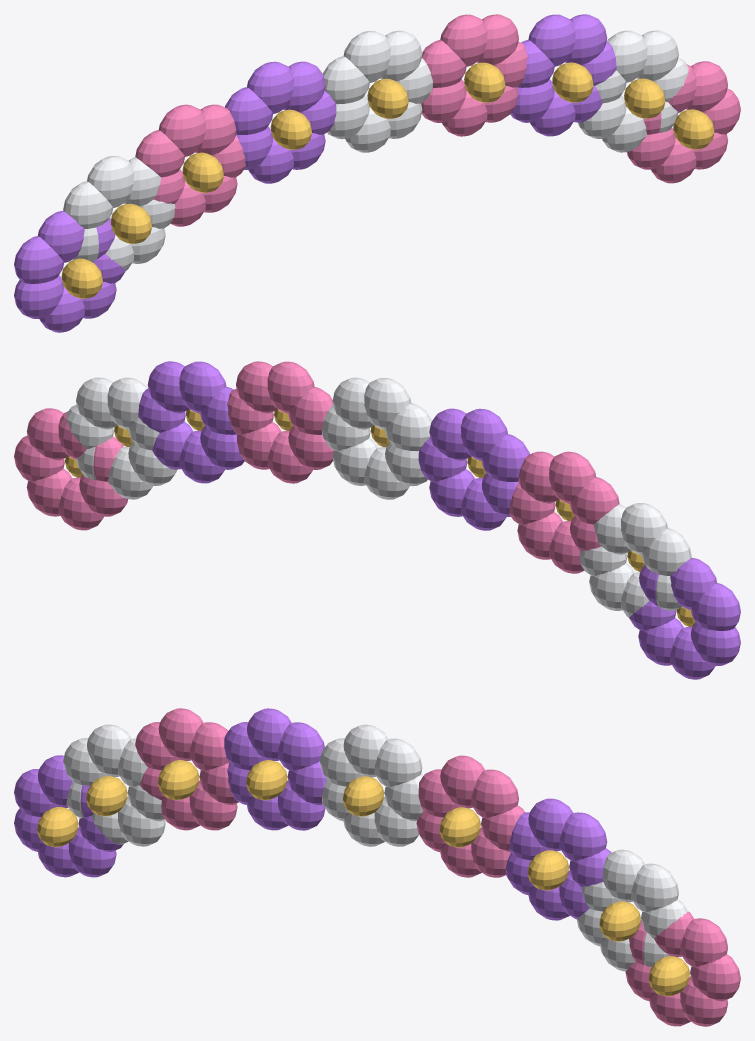
The model's file is flower-crown.glb.
The picture shows the model from 3 angles, top to bottom: view 1: azimuth 30°, elevation 25°; view 2: azimuth 150°, elevation 25°; view 3: azimuth 330°, elevation 25°; orthographic projection.
Parts seen in each view (by area): view 1: petal (×60), flower center (×9); view 2: petal (×61); view 3: petal (×58), flower center (×9).
Boxes of the visible parts, bbox=[...] form: petal (×60): bbox=[14, 14, 740, 332]; flower center (×9): bbox=[61, 62, 714, 298]; petal (×61): bbox=[14, 361, 740, 679]; petal (×58): bbox=[14, 708, 740, 1026]; flower center (×9): bbox=[37, 760, 689, 996].
Bounding box in the file's own units: 2.05 × 0.6059 × 0.165.
